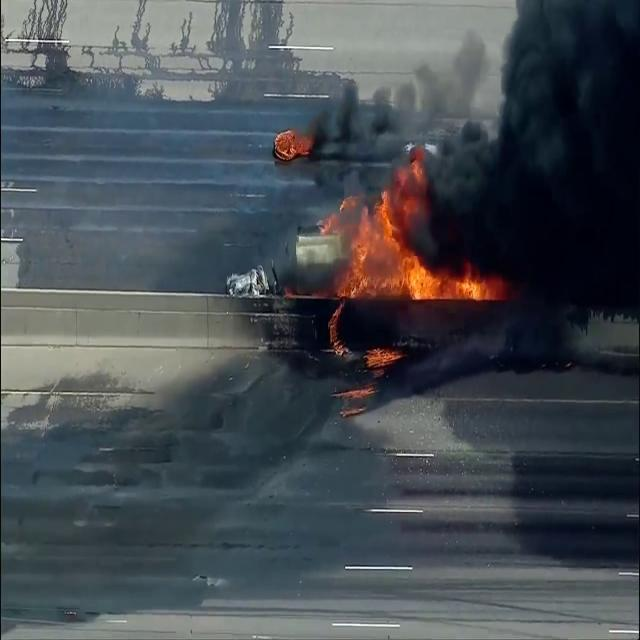Fire: (312, 178, 494, 320)
Smoke: (422, 1, 640, 343)
